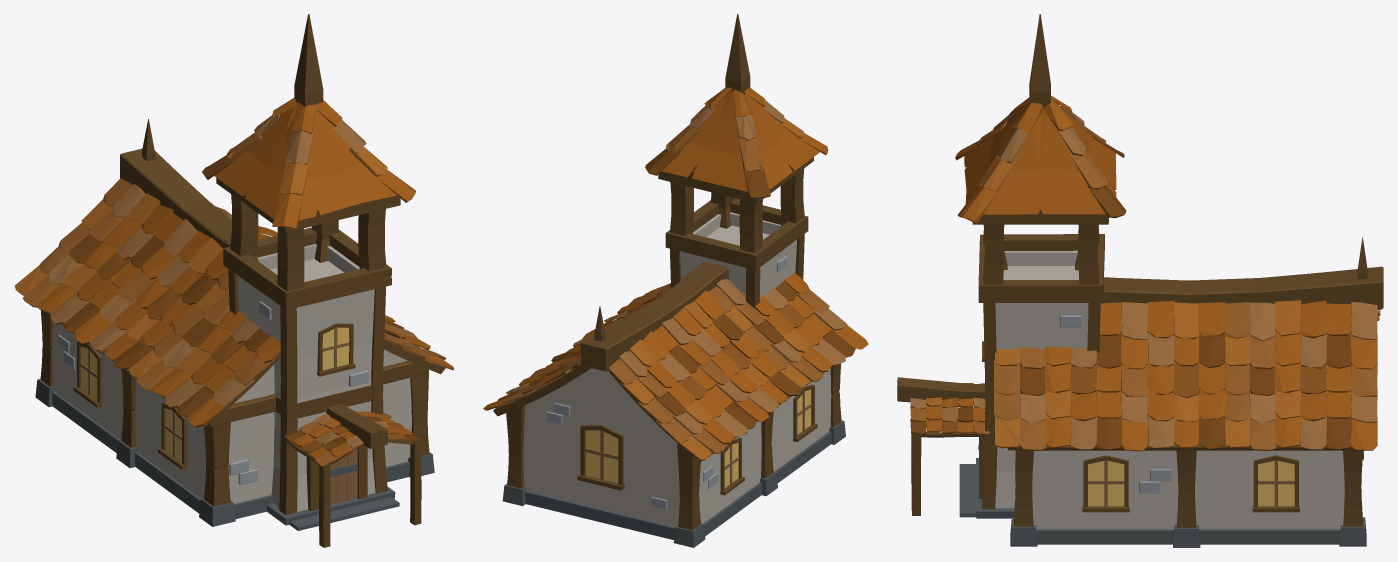
File: Church.fbx
3 renders of one model, left to right at view 1: azimuth 30°, elevation 25°; view 2: azimuth 150°, elevation 25°; view 3: azimuth 270°, elevation 25°, orthographic. The views are drawn at different scales.
Parts seen in each view (by area): view 1: Church; view 2: Church; view 3: Church.
Part boxes in pixels (x1=…): Church: x1=14, y1=14, x2=454, y2=547; Church: x1=483, y1=14, x2=868, y2=547; Church: x1=897, y1=14, x2=1383, y2=547.
Size of the model in its own units: 7.33 by 12.58 by 11.6.
